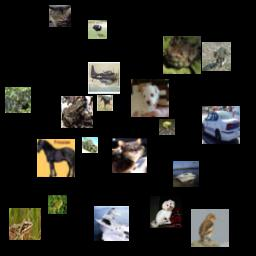airplane: (88, 62, 120, 94)
automobile: (202, 106, 240, 144)
bird: (191, 209, 229, 247), (88, 20, 107, 39)
cat: (112, 138, 147, 173), (202, 42, 231, 71), (49, 5, 71, 27)
dog: (131, 79, 169, 117), (150, 196, 182, 228)
frog: (163, 36, 201, 74), (61, 96, 93, 128), (9, 208, 41, 240), (5, 87, 31, 113), (48, 195, 67, 214), (159, 119, 175, 135)
ship: (94, 206, 129, 241), (173, 161, 199, 187)
truck: (82, 137, 98, 153)
